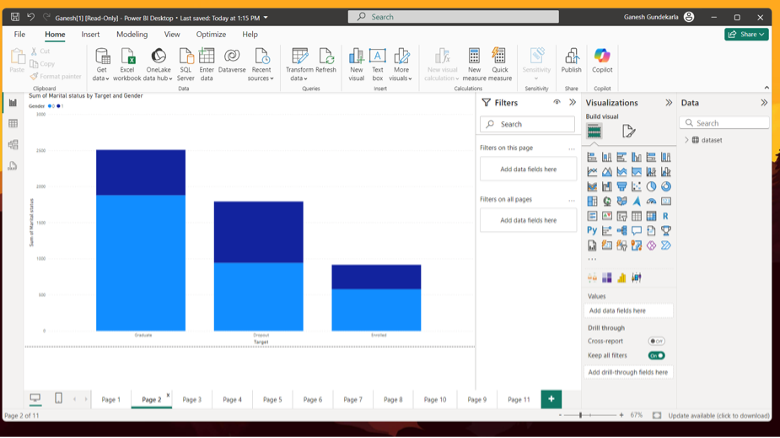

The page's visual inventory and layout, read from the dashboard file:
{"tool":"powerbi","page":{"name":"Page 2","canvas":[1280,720],"ordinal":1},"visuals":[{"type":"columnChart","fields":{"Y":["Sum(dataset.Marital status)"],"Category":["dataset.Target"],"Series":["dataset.Gender"]},"box":[9.4,0,1269.9,720],"z":0}]}

Visuals, with their boxes on the page's 1280x720 design canvas (x1, y1, x2, y2). These are canvas units, not pixel positions in the 780x438 screenshot, which may show the page scaled, cropped or inside an application window:
columnChart - Sum(dataset.Marital status) x dataset.Target: [9, 0, 1279, 720]
